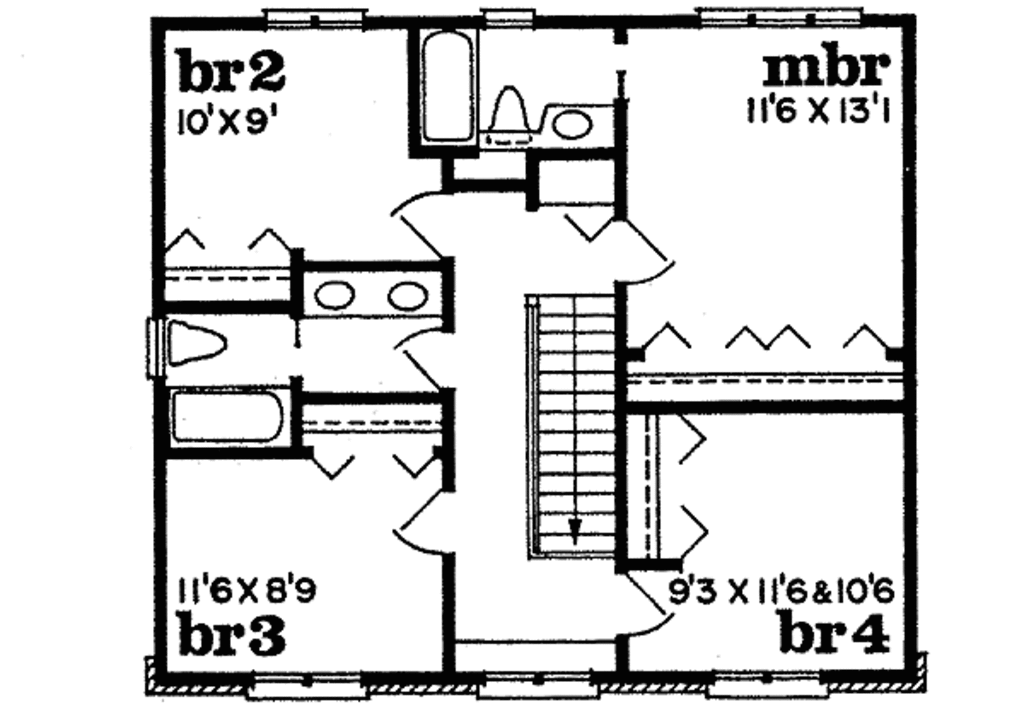door: (393, 480, 448, 553), (618, 573, 673, 638), (396, 190, 444, 261), (619, 218, 674, 279), (393, 328, 447, 387)
large_sink: (164, 313, 236, 373), (486, 81, 532, 142)
small_sink: (297, 268, 441, 321), (535, 105, 607, 153)
stairs: (518, 289, 625, 557)
tub: (166, 385, 296, 451), (420, 28, 484, 149)
windows: (469, 670, 604, 706), (691, 4, 870, 30), (706, 664, 820, 704), (244, 669, 373, 702), (255, 3, 370, 28)
